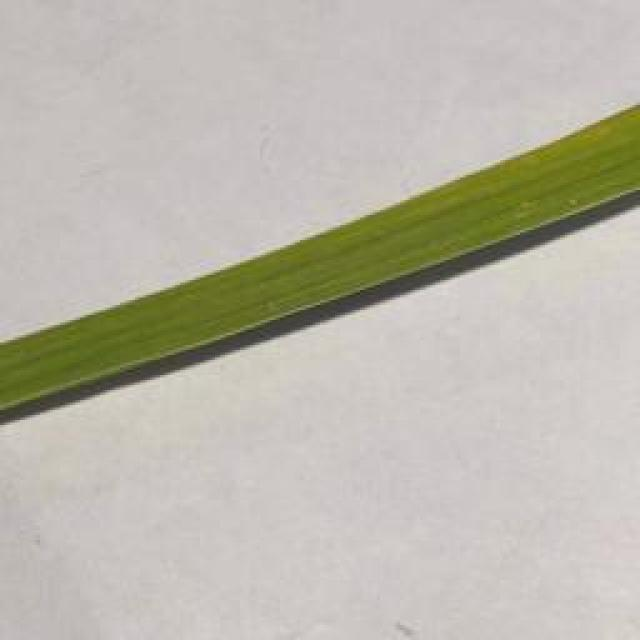Healthy-Plant: (0, 110, 640, 410)
